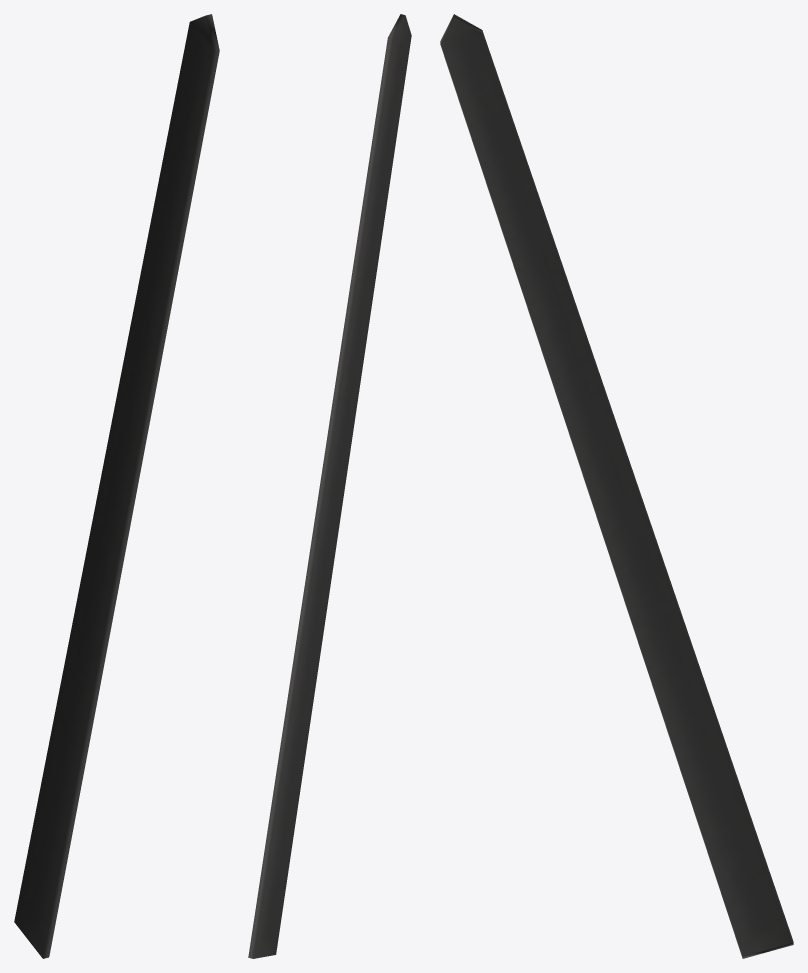
File: SM_Clock_01d.fbx
3 renders of one model, left to right at view 1: azimuth 30°, elevation 25°; view 2: azimuth 150°, elevation 25°; view 3: azimuth 270°, elevation 25°, orthographic. The views are drawn at different scales.
Parts seen in each view (by area): view 1: SM_Clock_01d_LOD0; view 2: SM_Clock_01d_LOD0; view 3: SM_Clock_01d_LOD0.
Boxes of the visible parts, <box> form: SM_Clock_01d_LOD0: <box>14,14,219,958</box>; SM_Clock_01d_LOD0: <box>248,14,411,958</box>; SM_Clock_01d_LOD0: <box>440,14,793,958</box>.
Bounding box in the file's own units: 0.1047 × 5.76 × 16.95.
1 material, 1 textured.
